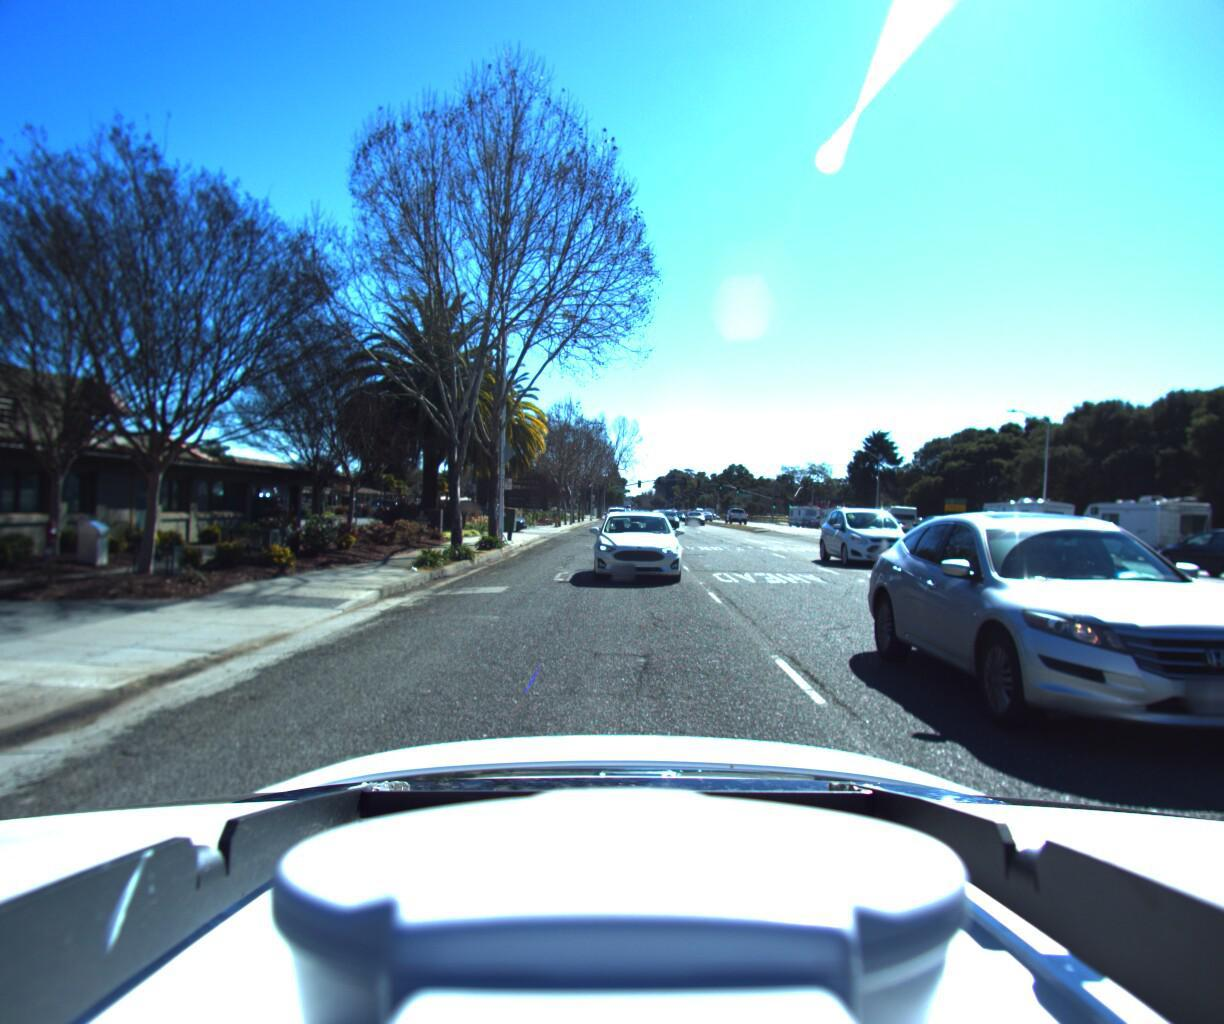car: (895, 505, 1224, 883), (824, 503, 941, 571), (587, 506, 682, 585), (1117, 521, 1224, 581), (900, 516, 989, 557), (442, 505, 532, 533), (1209, 506, 1224, 621), (601, 506, 627, 529)
other_vehicle: (1070, 489, 1222, 566), (969, 494, 1081, 553), (870, 503, 921, 537), (1215, 485, 1224, 585)
